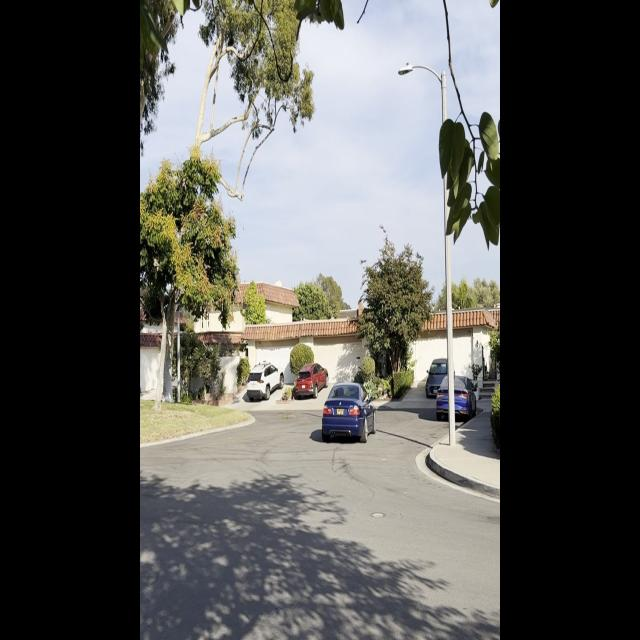Carbeetle: (310, 372, 380, 456)
Civilian: (436, 375, 475, 421), (246, 362, 285, 401), (426, 351, 457, 398), (292, 364, 324, 399)
